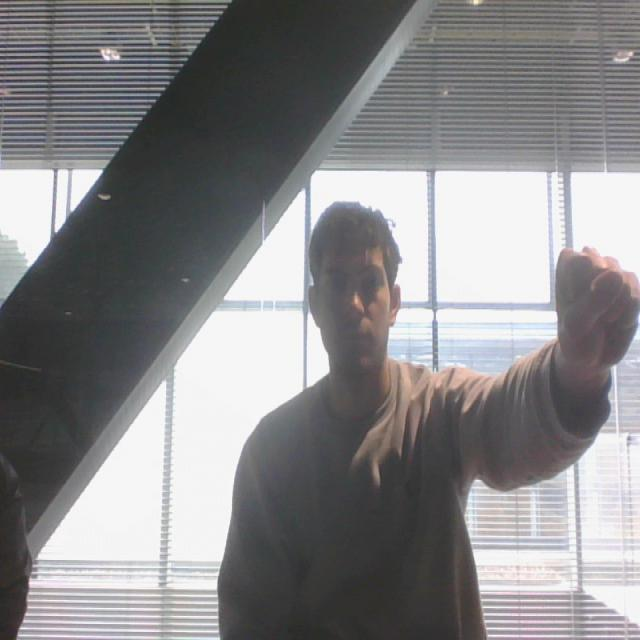stop: (546, 240, 640, 382)
